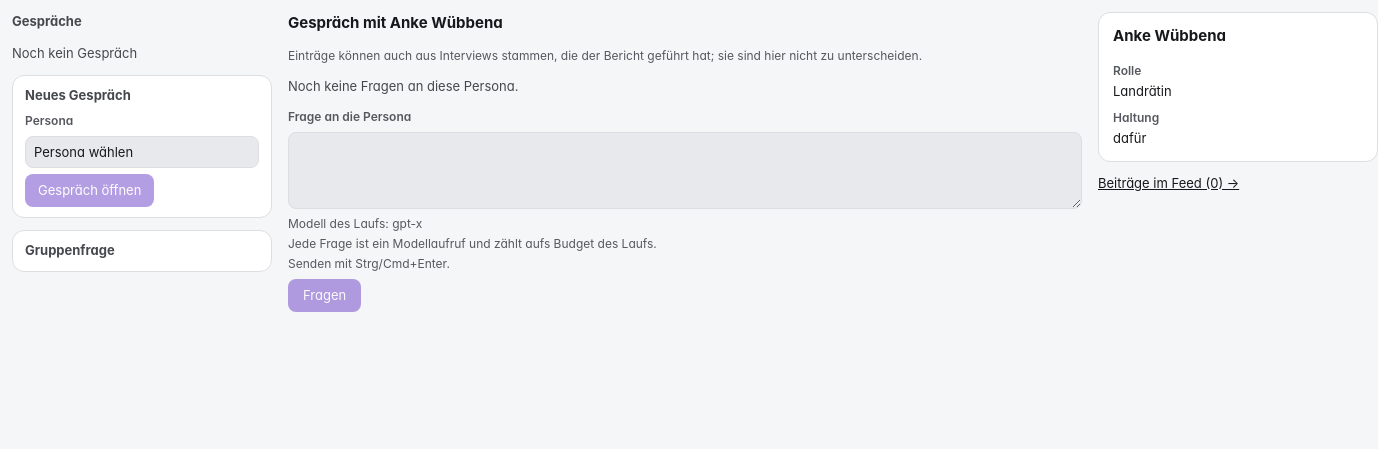
it: RunInterviewsView › Senden ruft ask mit Persona und Text auf
The image size is (1378, 449).
Type "Wie stehen Sie dazu?" into the text box with test id "ask-input".
click(685, 170); type("Wie stehen Sie dazu?")  # box [288,132,1082,208]
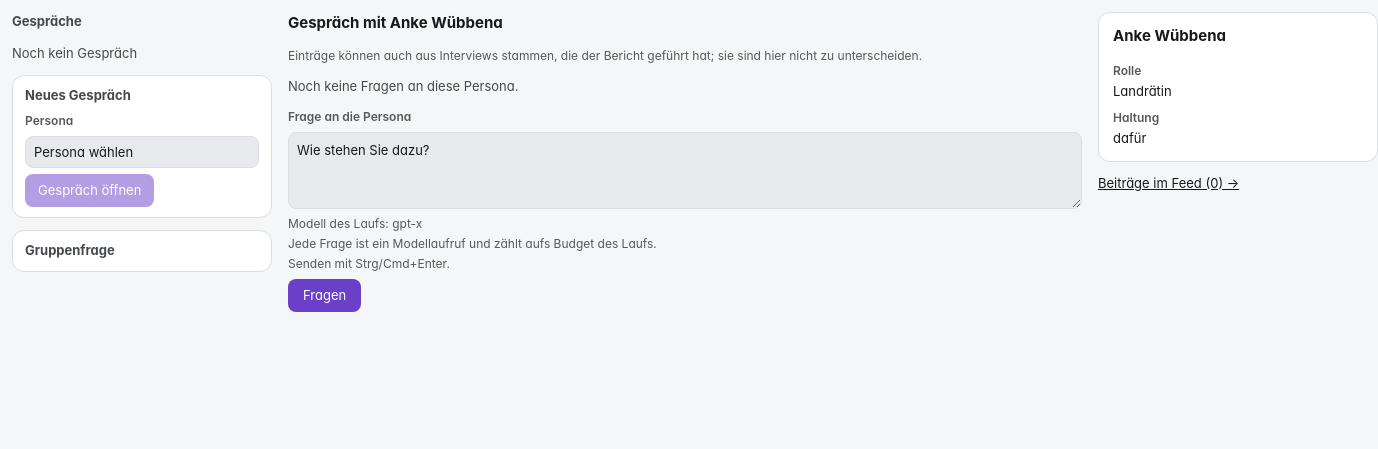
Submit the form with test id "ask-form", box [288,108,1082,312]
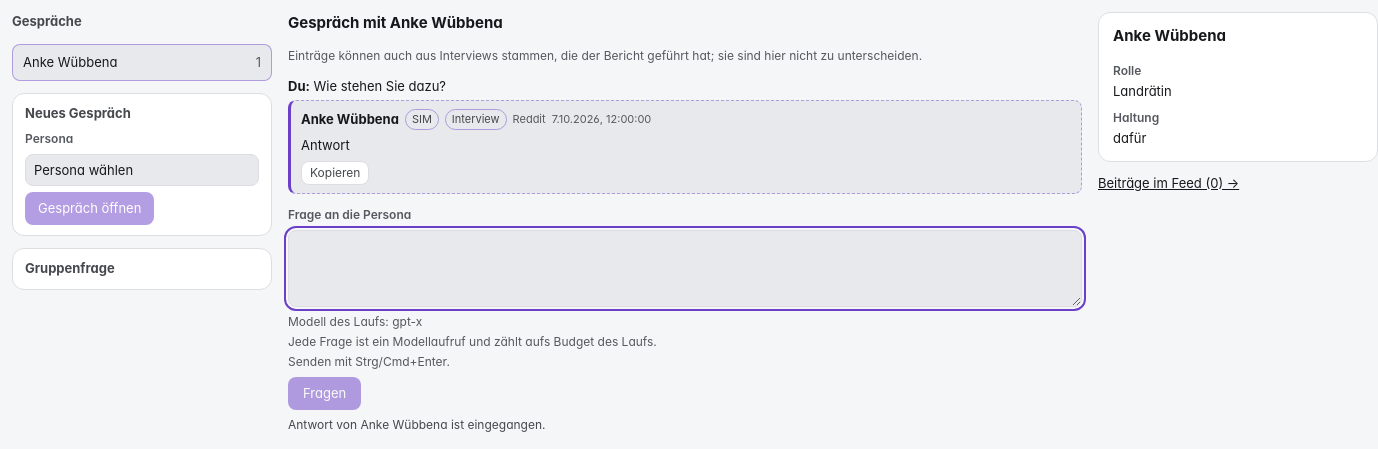
Expected: the element with test id "turn-answer" shows "Antwort", [301,136,350,152]
